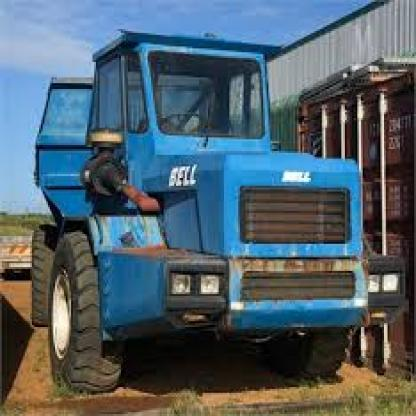dump_truck: (46, 17, 398, 378)
